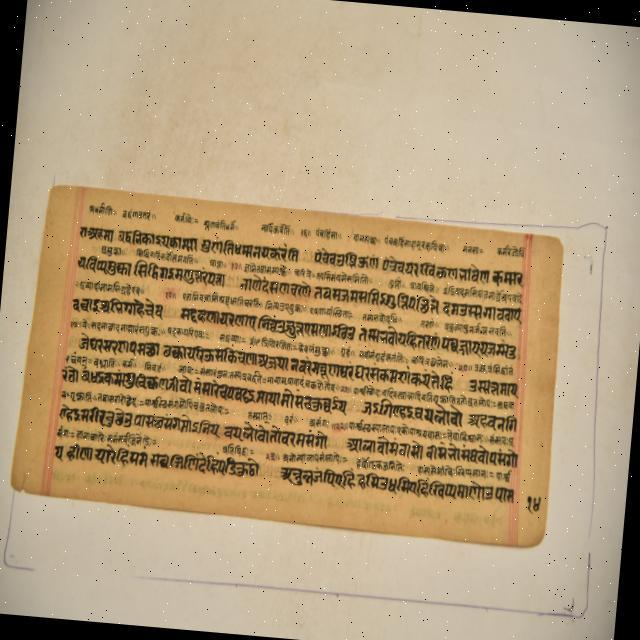text_paragraph: (7, 181, 562, 555)
